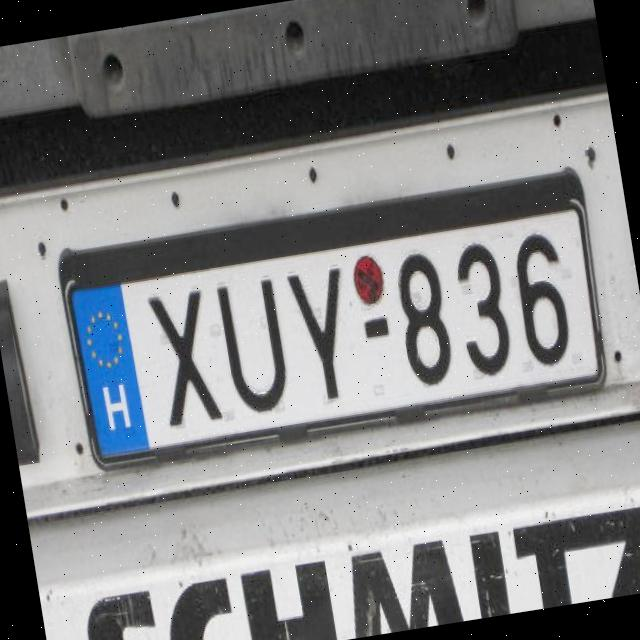licence: (57, 170, 611, 470)
